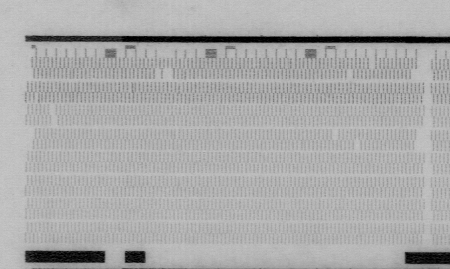Broken hole: (409, 59, 429, 82), (23, 125, 37, 150), (47, 103, 60, 128), (153, 68, 176, 82), (413, 130, 428, 151), (367, 56, 378, 71), (330, 129, 342, 141), (344, 69, 356, 80), (352, 140, 363, 152)
Oblique printing: (126, 82, 138, 93)
